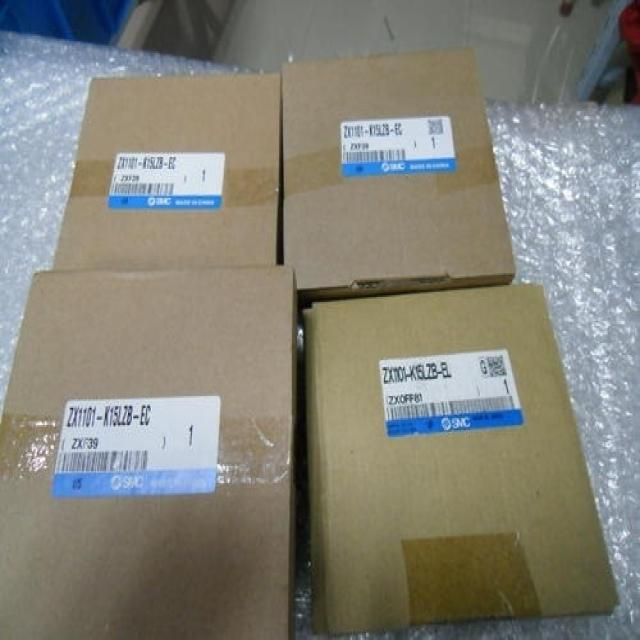Carton: (0, 49, 516, 638), (310, 283, 617, 630), (52, 68, 276, 265)
